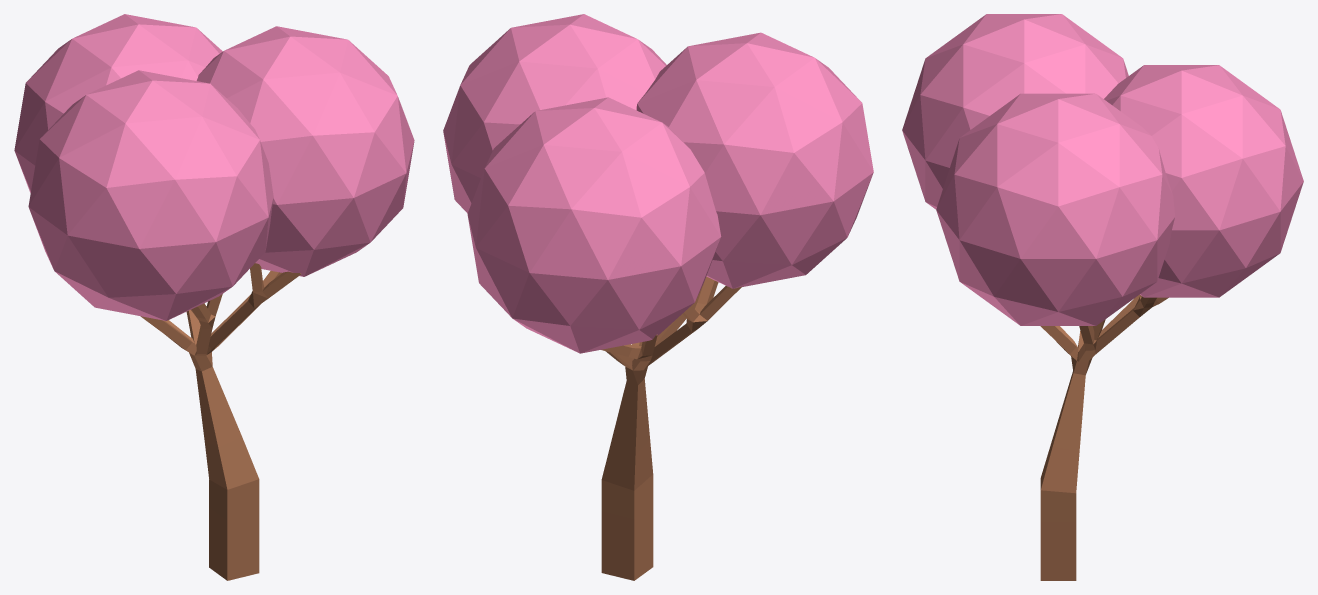
Rendered from tree_pink_03.fbx.
The picture shows the model from 3 angles, left to right: view 1: azimuth 30°, elevation 25°; view 2: azimuth 150°, elevation 25°; view 3: azimuth 270°, elevation 25°; orthographic projection. The views are drawn at different scales.
Parts seen in each view (by area): view 1: Icosphere.012, Icosphere.010, Cube.002, Icosphere.011; view 2: Icosphere.011, Icosphere.012, Icosphere.010, Cube.002; view 3: Icosphere.010, Icosphere.011, Icosphere.012, Cube.002.
Part boxes in pixels (left/top/right/bottom): Icosphere.012: left=28, top=70, right=273, bottom=320; Icosphere.010: left=196, top=26, right=414, bottom=276; Cube.002: left=140, top=263, right=300, bottom=580; Icosphere.011: left=14, top=14, right=222, bottom=192; Icosphere.011: left=467, top=97, right=721, bottom=353; Icosphere.012: left=636, top=32, right=873, bottom=288; Icosphere.010: left=443, top=14, right=666, bottom=213; Cube.002: left=601, top=276, right=742, bottom=580; Icosphere.010: left=936, top=93, right=1174, bottom=325; Icosphere.011: left=1104, top=65, right=1303, bottom=297; Icosphere.012: left=902, top=14, right=1128, bottom=209; Cube.002: left=1040, top=294, right=1168, bottom=580.
Size of the model in its own units: 875 by 1208 by 867.
